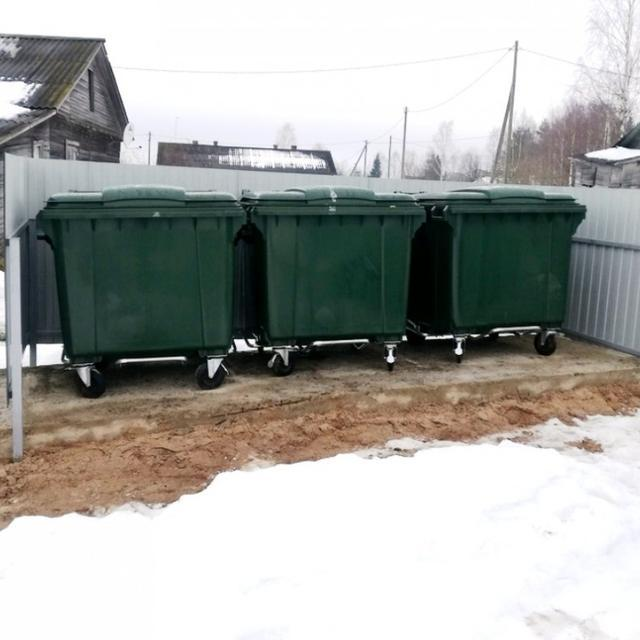Trash_Can_Closed: (35, 185, 247, 354), (241, 185, 428, 344), (408, 184, 587, 331)
